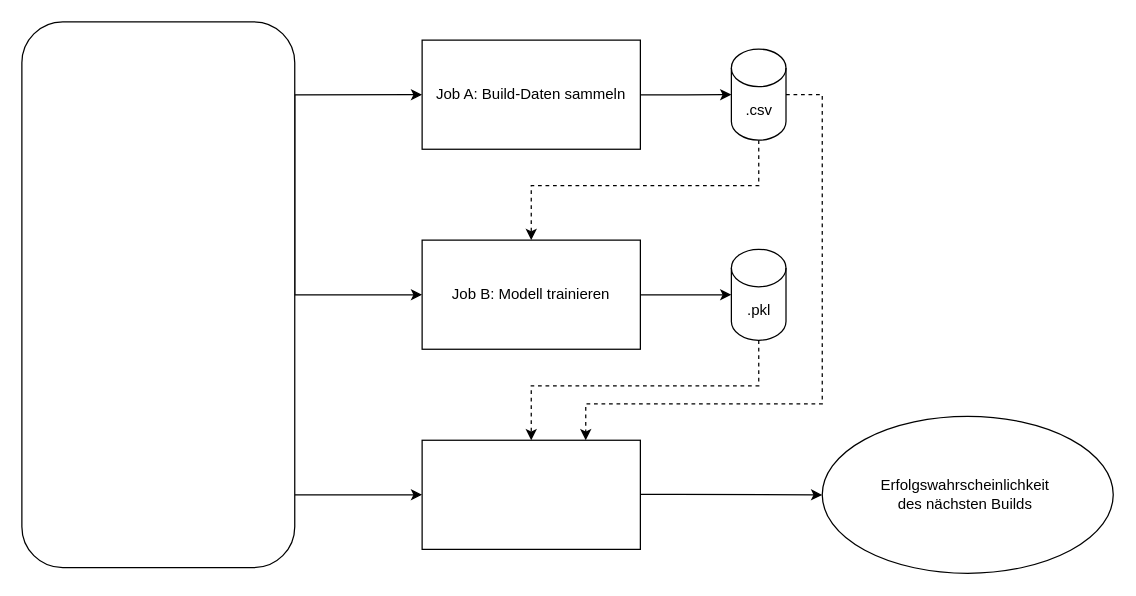
This 1136x596 diagram has some shape labels left out. The centre of each missing label's shape, as x and y in pixels:
"Jenkins-Container" belongs at (158,294).
"Job C: Vorhersage treffen" belongs at (530,494).
